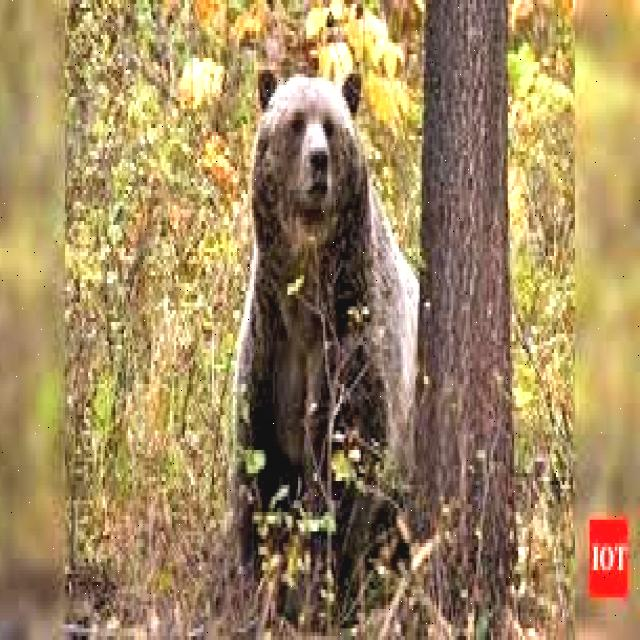bear: (214, 4, 408, 463)
